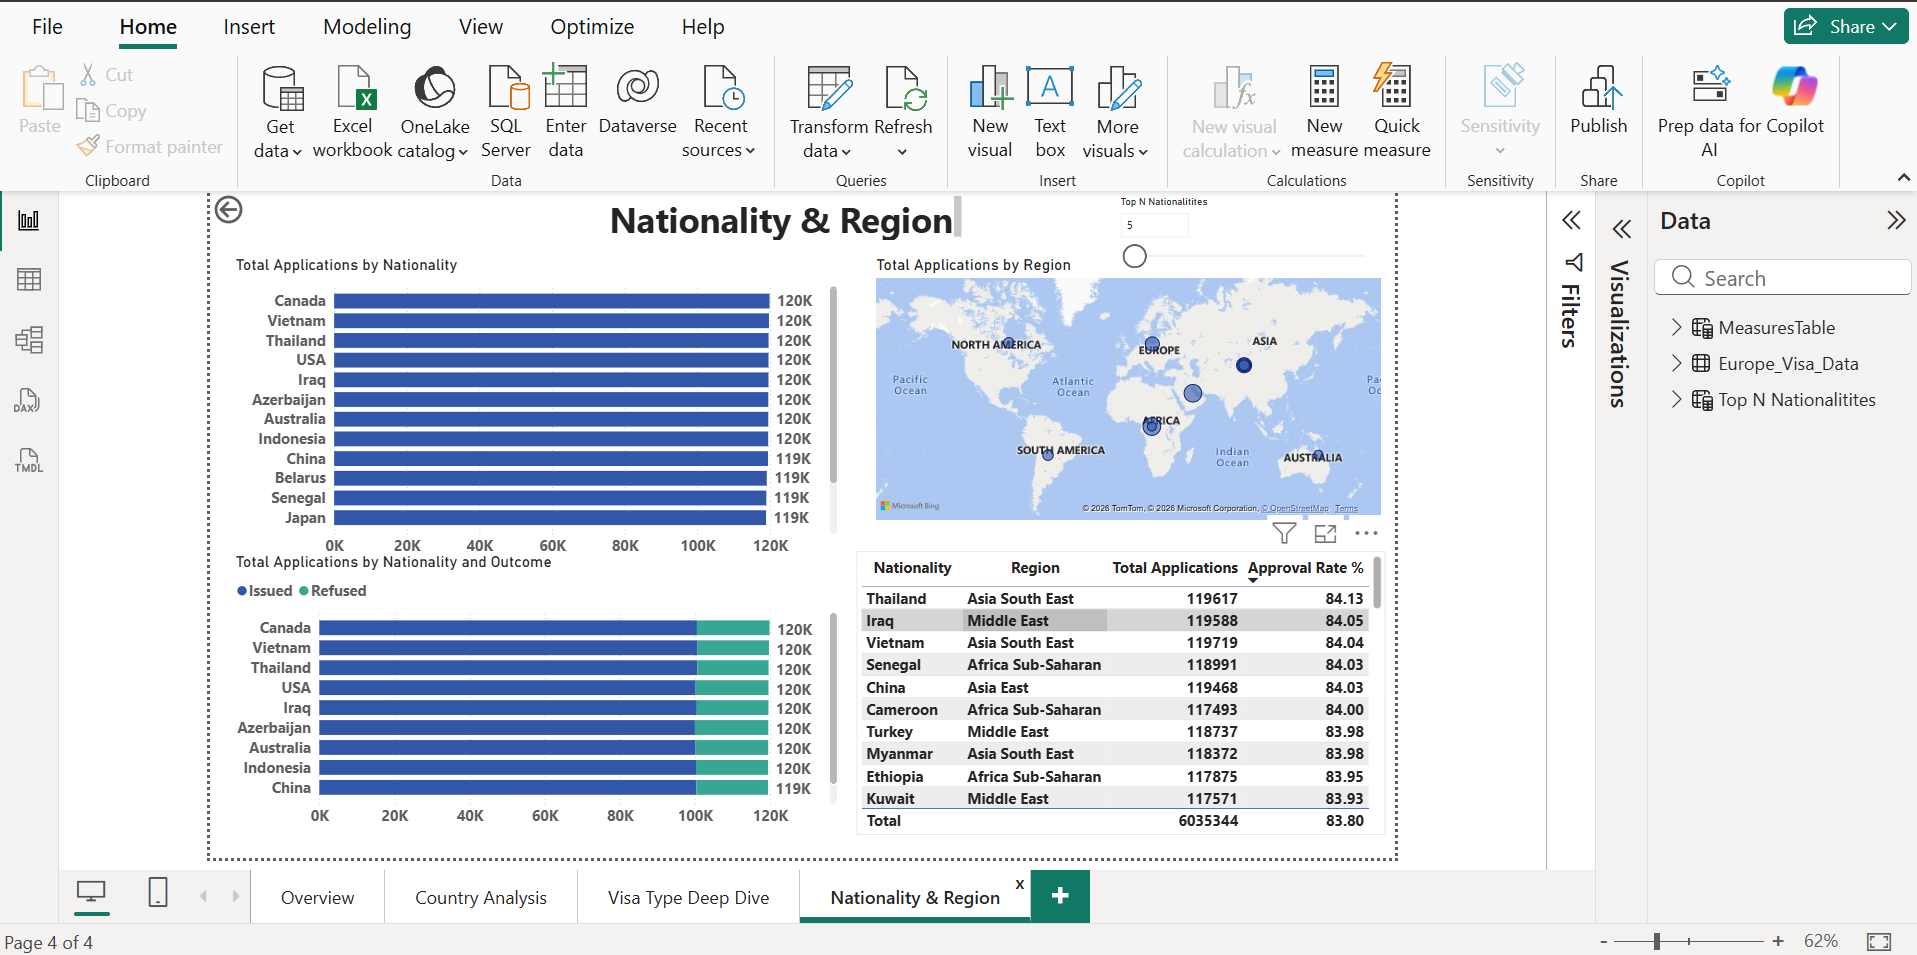

This screenshot's page, from the dashboard's own definition file:
{"tool":"powerbi","page":{"name":"Nationality & Region","canvas":[1280,720],"ordinal":3},"visuals":[{"type":"clusteredBarChart","fields":{"Category":["Europe_Visa_Data.Nationality"],"Y":["MeasuresTable.Total Applications"]},"box":[22.7,47,659,357.8],"z":0},{"type":"map","fields":{"Category":["Europe_Visa_Data.Region"],"Size":["MeasuresTable.Total Applications"]},"box":[714.1,53.4,555.4,306],"z":1000},{"type":"barChart","fields":{"Category":["Europe_Visa_Data.Nationality"],"Y":["MeasuresTable.Total Applications"],"Series":["Europe_Visa_Data.Outcome"]},"box":[22.7,390.2,659,306],"z":2000},{"type":"tableEx","fields":{"Values":["Europe_Visa_Data.Nationality","Europe_Visa_Data.Region","MeasuresTable.Total Applications","MeasuresTable.Approval Rate %"]},"box":[697.9,388.6,571.6,306],"z":3000},{"type":"actionButton","box":[0,0,100,40],"z":4000},{"type":"slicer","fields":{"Values":["Top N Nationalitites.Top N Nationalitites"]},"box":[969.9,0,299.6,90.7],"z":5000}]}

Visuals, with their boxes on the page's 1280x720 design canvas (x1, y1, x2, y2). These are canvas units, not pixel positions in the 1917x955 screenshot, which may show the page scaled, cropped or inside an application window:
clusteredBarChart - Europe_Visa_Data.Nationality x MeasuresTable.Total Applications: BBox(23, 47, 682, 405)
map - Europe_Visa_Data.Region x MeasuresTable.Total Applications: BBox(714, 53, 1270, 359)
barChart - Europe_Visa_Data.Nationality x MeasuresTable.Total Applications: BBox(23, 390, 682, 696)
tableEx - Europe_Visa_Data.Nationality x Europe_Visa_Data.Region: BBox(698, 389, 1270, 695)
actionButton: BBox(0, 0, 100, 40)
slicer - Top N Nationalitites.Top N Nationalitites: BBox(970, 0, 1270, 91)
